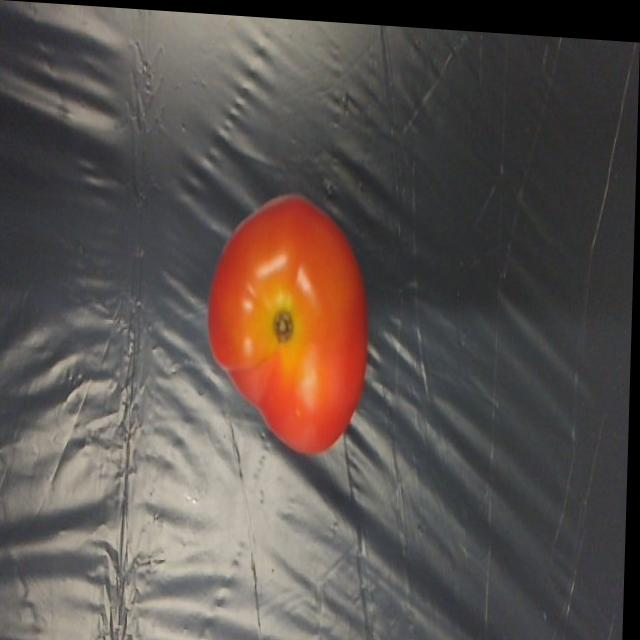sari: (188, 166, 398, 480)
